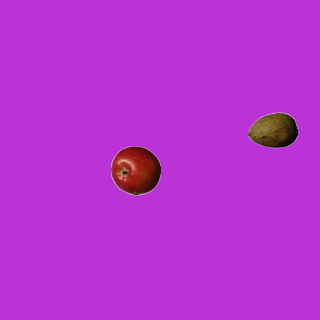Apple Braeburn: (110, 145, 160, 195)
Papaya: (247, 105, 297, 155)
